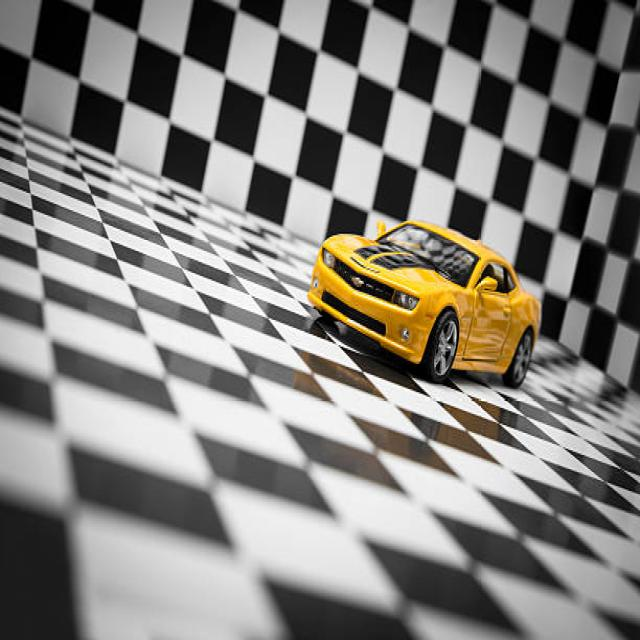Car: (306, 218, 540, 387)
